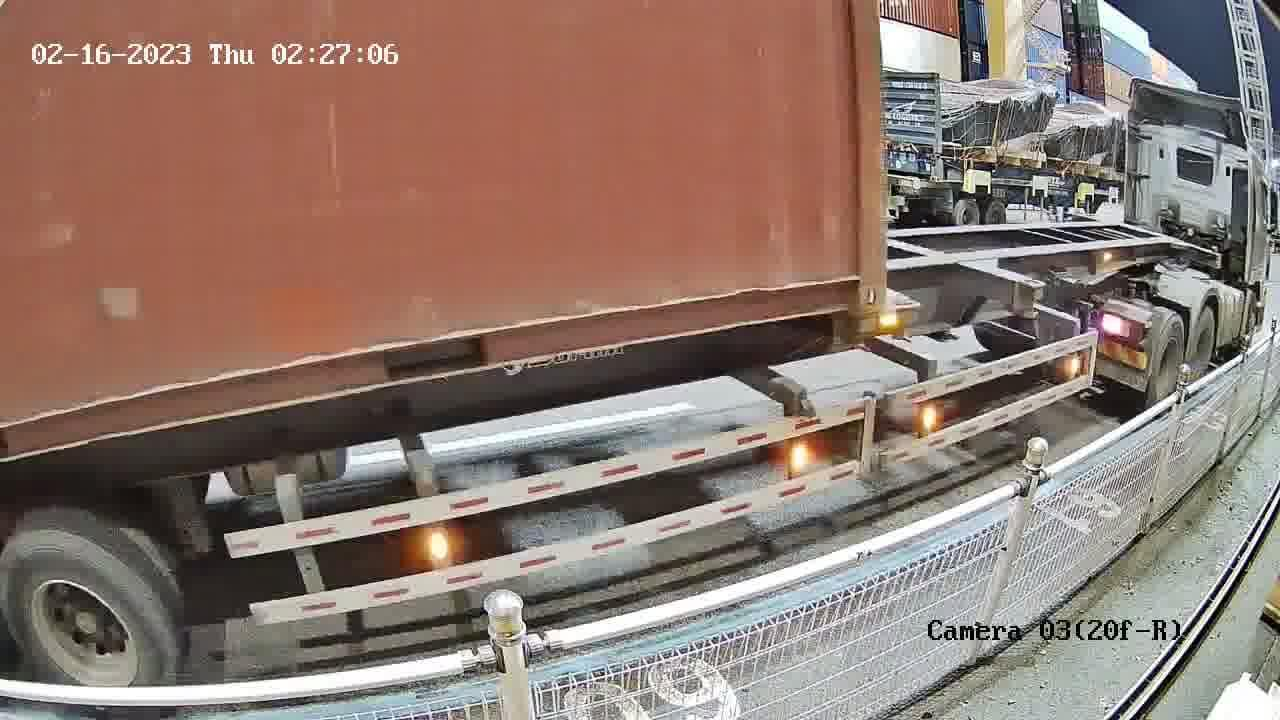Cone: (851, 309, 885, 351)
Hole_R: (817, 251, 888, 312)
Tire: (1, 527, 175, 680), (1148, 317, 1186, 398), (1189, 310, 1217, 371)
